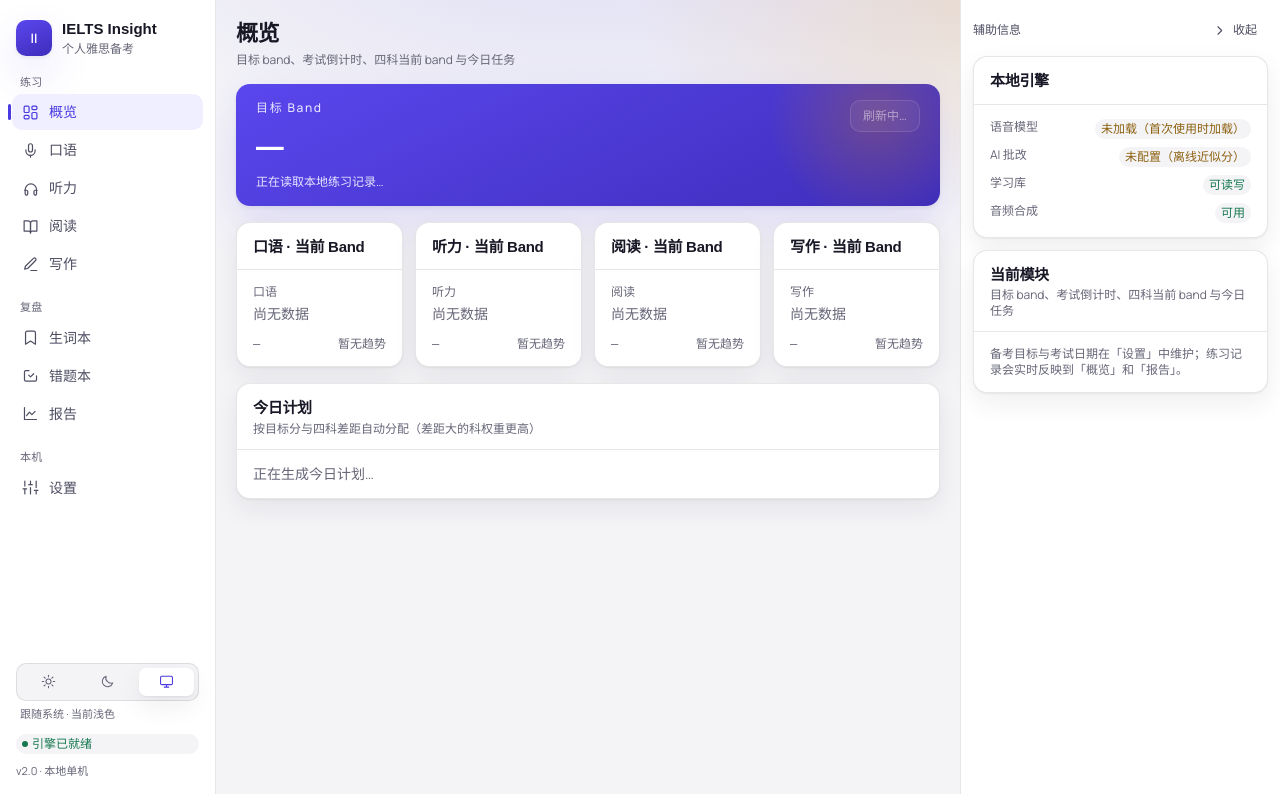
Test: 外壳记住上次那一屏 › 点进「设置」后刷新，仍停在设置（不是回概览）
This screenshot has width=1280, height=794.
Expected: the text "引擎已就绪" is shown, left=16, top=734, right=199, bottom=754
Click the button "设置" at (108, 488), box left=12, top=470, right=203, bottom=506
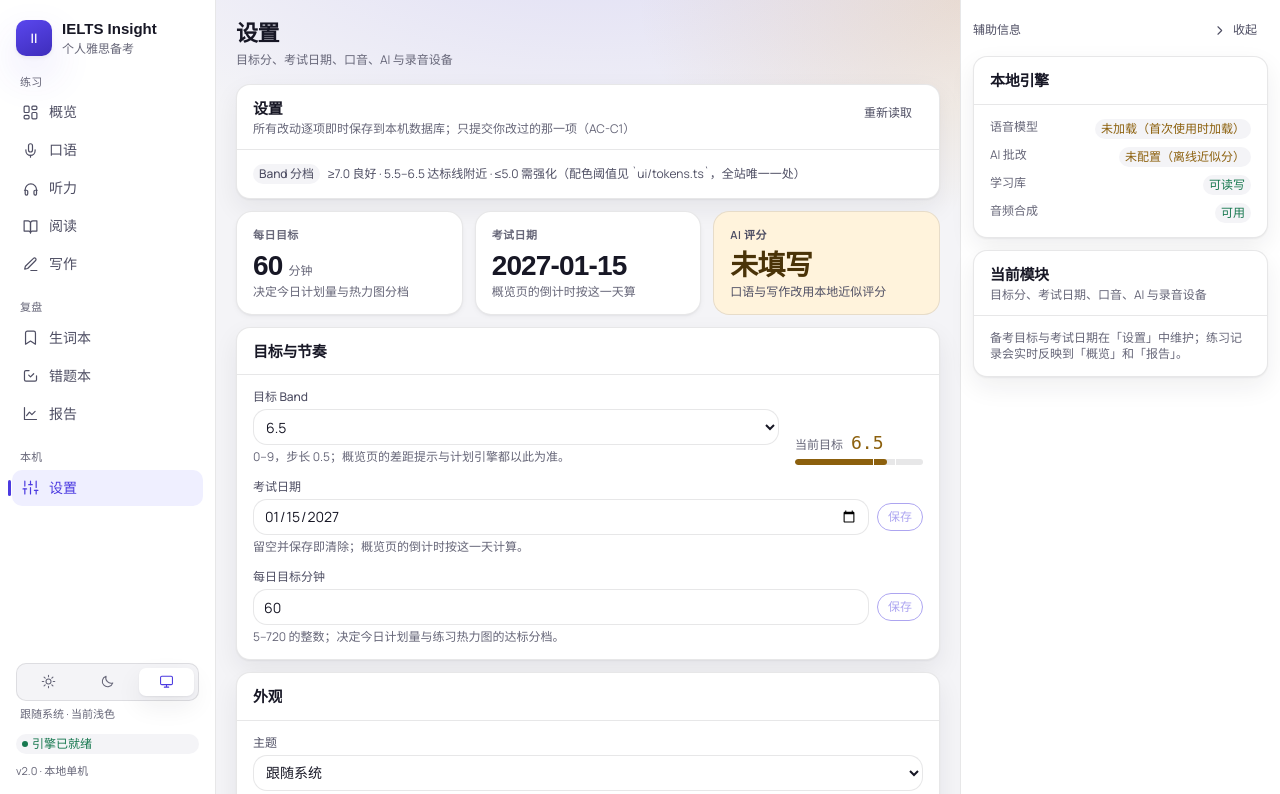
Result: the 1st heading "设置" is shown at left=236, top=21, right=279, bottom=46
